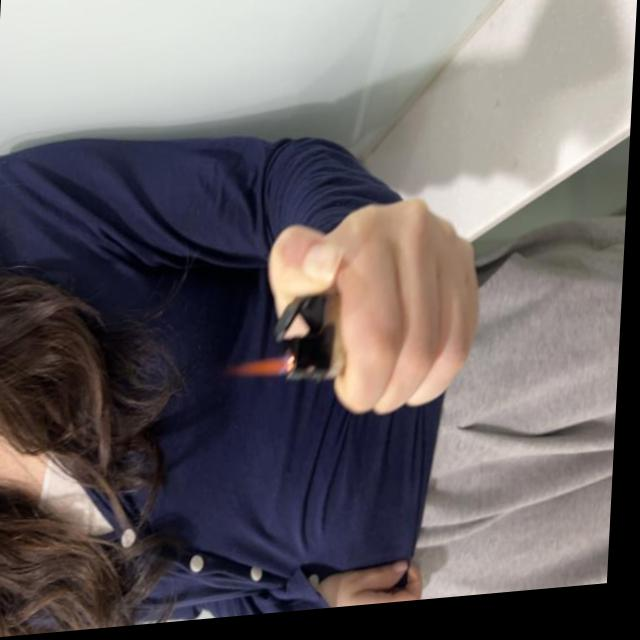Fire: (231, 362, 300, 385)
